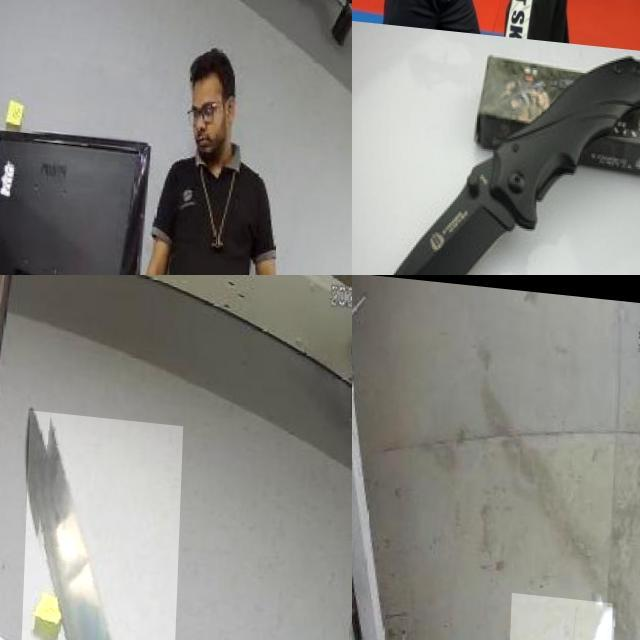-: (20, 406, 184, 640), (355, 138, 525, 275), (451, 0, 499, 20), (352, 50, 372, 93), (352, 0, 376, 19)
